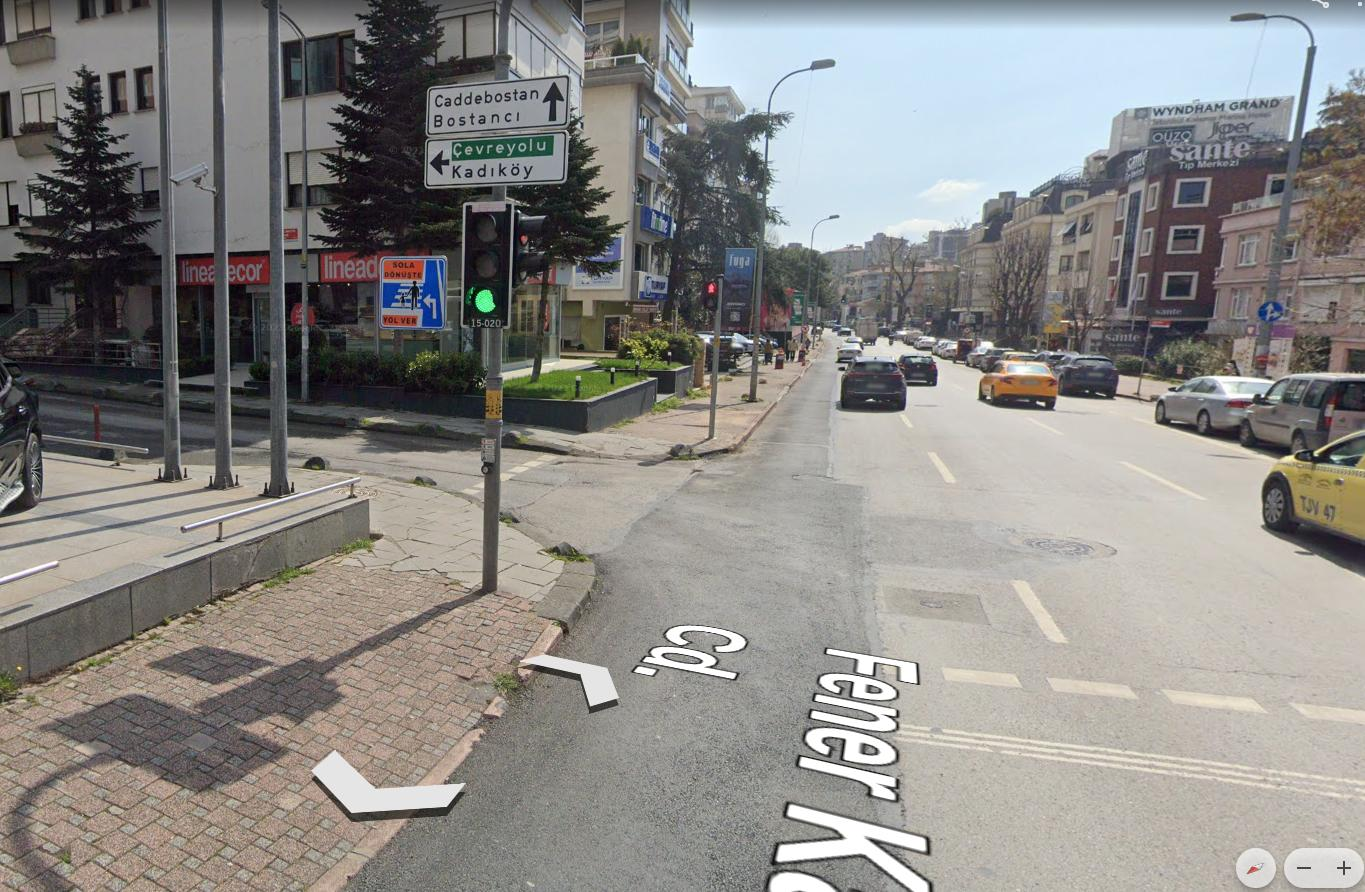greenlight: (466, 204, 509, 321), (841, 293, 846, 304), (877, 294, 881, 302)
leftturnsareforbidden: (802, 325, 809, 332)
